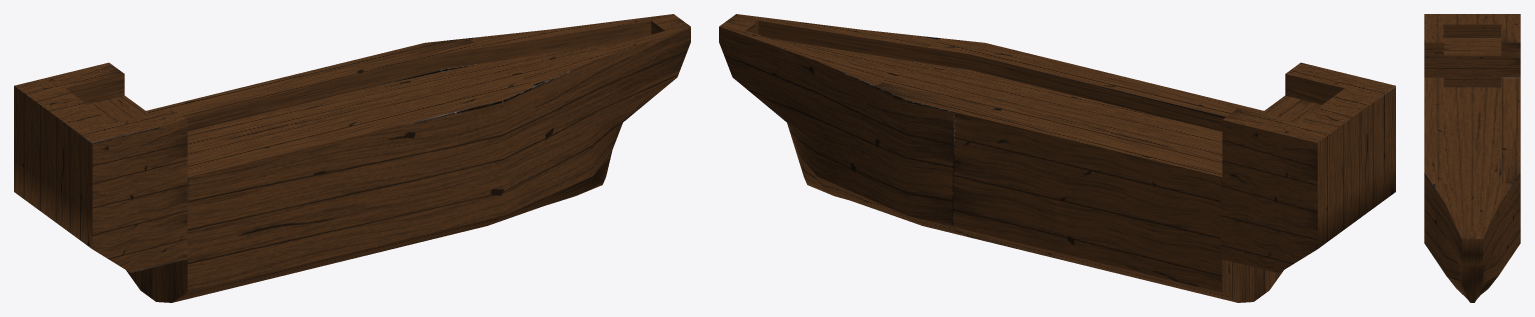
File: BoatwTexture3.fbx
3 renders of one model, left to right at view 1: azimuth 30°, elevation 25°; view 2: azimuth 150°, elevation 25°; view 3: azimuth 270°, elevation 25°, orthographic. The views are drawn at different scales.
Visible parts, largest first — view 1: pCube2; view 2: pCube2; view 3: pCube2.
Part boxes in pixels (x1=…): pCube2: x1=14, y1=14, x2=690, y2=302; pCube2: x1=719, y1=14, x2=1395, y2=302; pCube2: x1=1424, y1=14, x2=1520, y2=302.
Size of the model in its own units: 35.62 by 11.09 by 7.69.
1 material, 1 textured.
